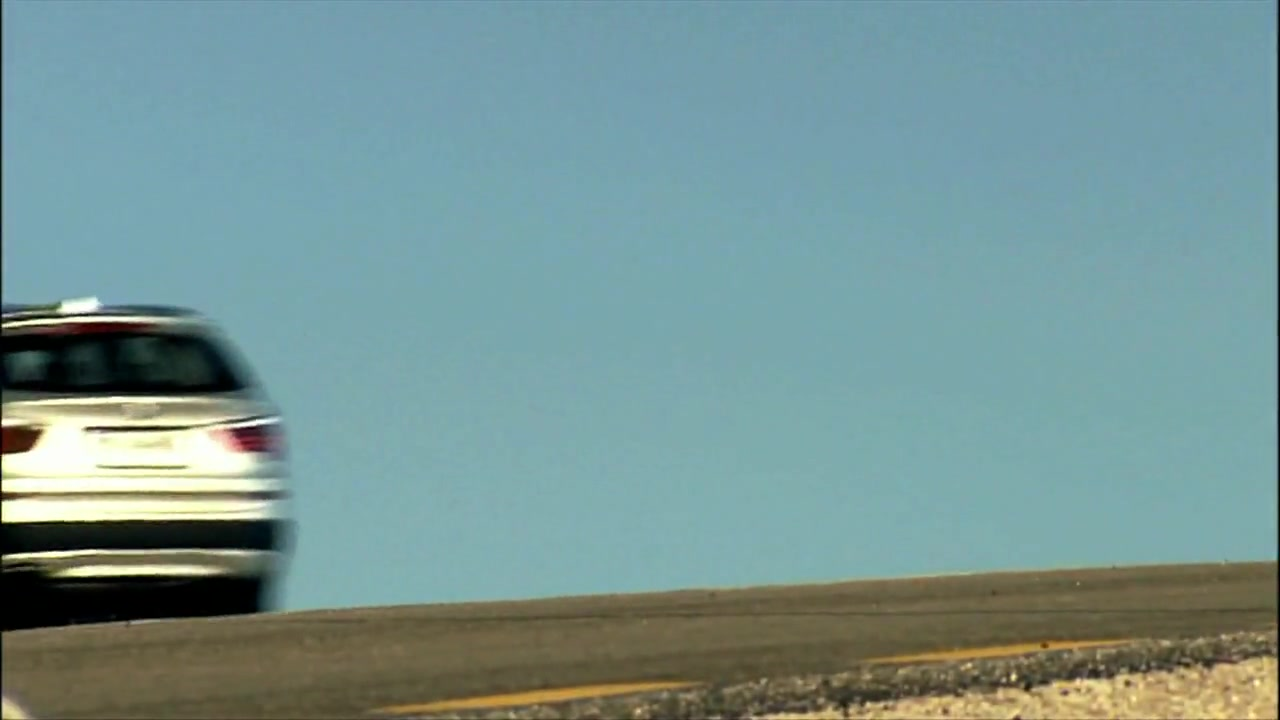car: (5, 297, 296, 631)
